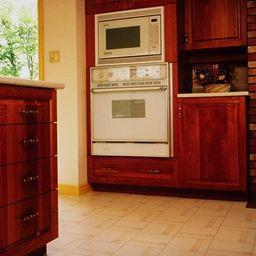Electrodomestico: (88, 68, 174, 159), (85, 12, 174, 61)
